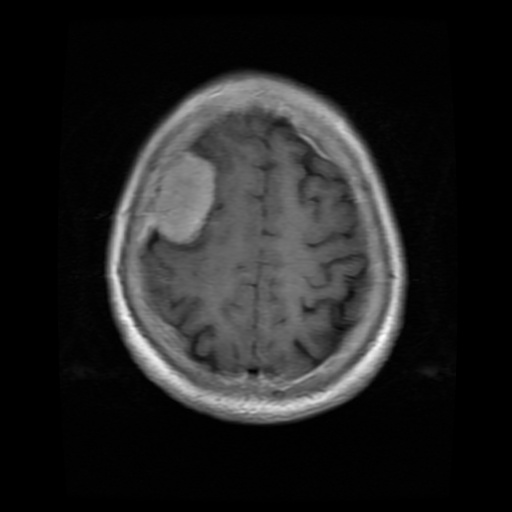meningioma: (154, 152, 215, 243)
